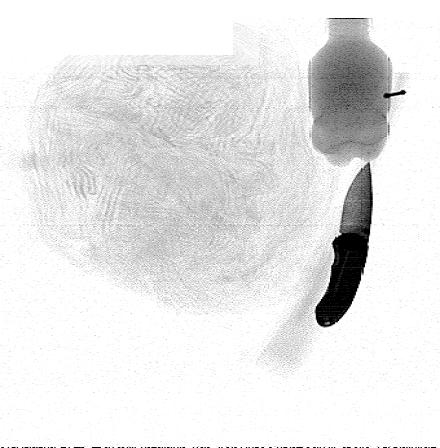Knife: (313, 159, 373, 329)
